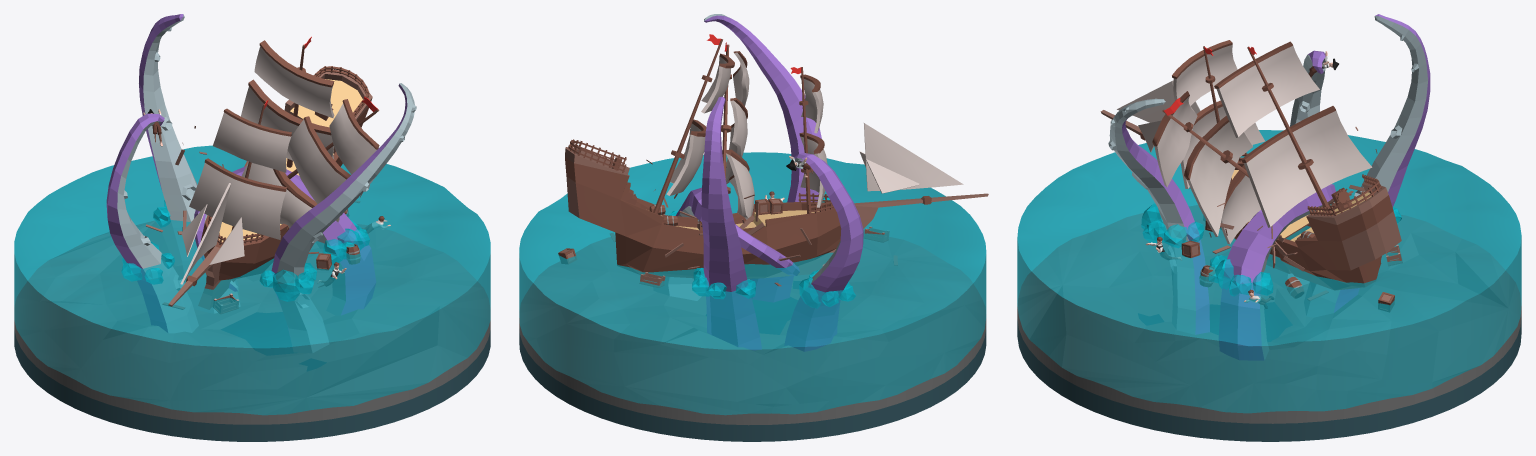
Rendered from land_11.fbx.
3 renders of one model, left to right at view 1: azimuth 30°, elevation 25°; view 2: azimuth 150°, elevation 25°; view 3: azimuth 270°, elevation 25°, orthographic. The views are drawn at different scales.
Visible parts, largest first — view 1: land_11.015, land_11.077, land_11.040, land_11.020, land_11.017, land_11.019, land_11.014, land_11.016, land_11.064; view 2: land_11.015, land_11.077, land_11.040, land_11.020, land_11.019, land_11.014, land_11.017, land_11.016; view 3: land_11.015, land_11.077, land_11.040, land_11.020, land_11.017, land_11.016, land_11.019, land_11.014.
Boxes of the visible parts, left/top/right/bottom form: land_11.015: left=14, top=145, right=490, bottom=415; land_11.077: left=14, top=221, right=490, bottom=424; land_11.040: left=168, top=36, right=379, bottom=309; land_11.020: left=14, top=312, right=490, bottom=441; land_11.017: left=271, top=83, right=416, bottom=352; land_11.019: left=139, top=14, right=240, bottom=313; land_11.014: left=106, top=113, right=198, bottom=332; land_11.016: left=194, top=166, right=375, bottom=315; land_11.064: left=273, top=269, right=300, bottom=301; land_11.015: left=519, top=152, right=986, bottom=415; land_11.077: left=519, top=228, right=986, bottom=425; land_11.040: left=565, top=34, right=988, bottom=278; land_11.020: left=519, top=281, right=986, bottom=441; land_11.019: left=701, top=96, right=761, bottom=350; land_11.014: left=784, top=153, right=863, bottom=351; land_11.017: left=704, top=14, right=821, bottom=302; land_11.016: left=653, top=187, right=799, bottom=300; land_11.015: left=1017, top=130, right=1521, bottom=413; land_11.077: left=1017, top=204, right=1521, bottom=423; land_11.040: left=1100, top=40, right=1401, bottom=290; land_11.020: left=1017, top=302, right=1521, bottom=441; land_11.017: left=1108, top=98, right=1209, bottom=334; land_11.016: left=1219, top=184, right=1335, bottom=360; land_11.019: left=1304, top=14, right=1430, bottom=317; land_11.014: left=1264, top=50, right=1325, bottom=288.
Bounding box in the file's own units: 20 × 13.76 × 20.
